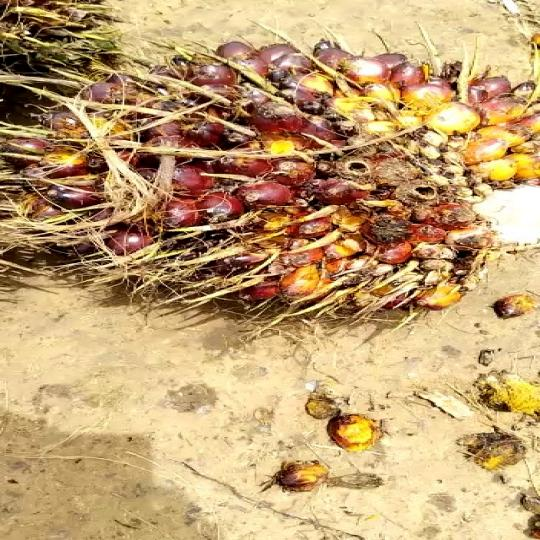masak: (0, 12, 540, 358)
